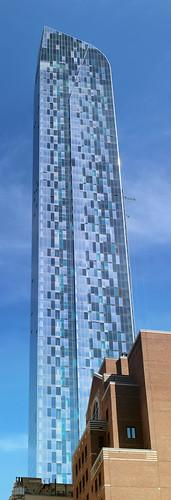building: (30, 23, 134, 489)
